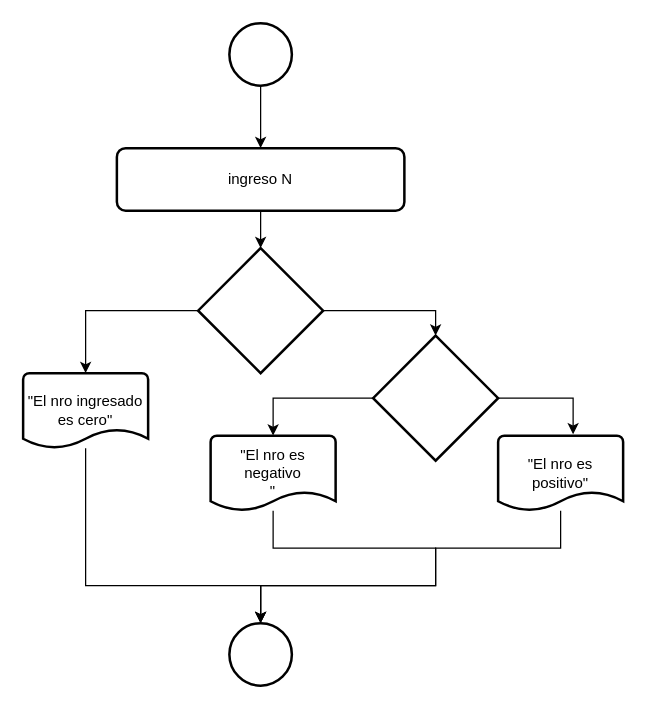
The diagram is 645 pixels wide and 708 high, and some of its shapes have lost their labels. Here are the shapes that lost their labels. From the top down, the centre of each, then its label:
the point at 260,310: N == 0
the point at 435,397: N > 0
